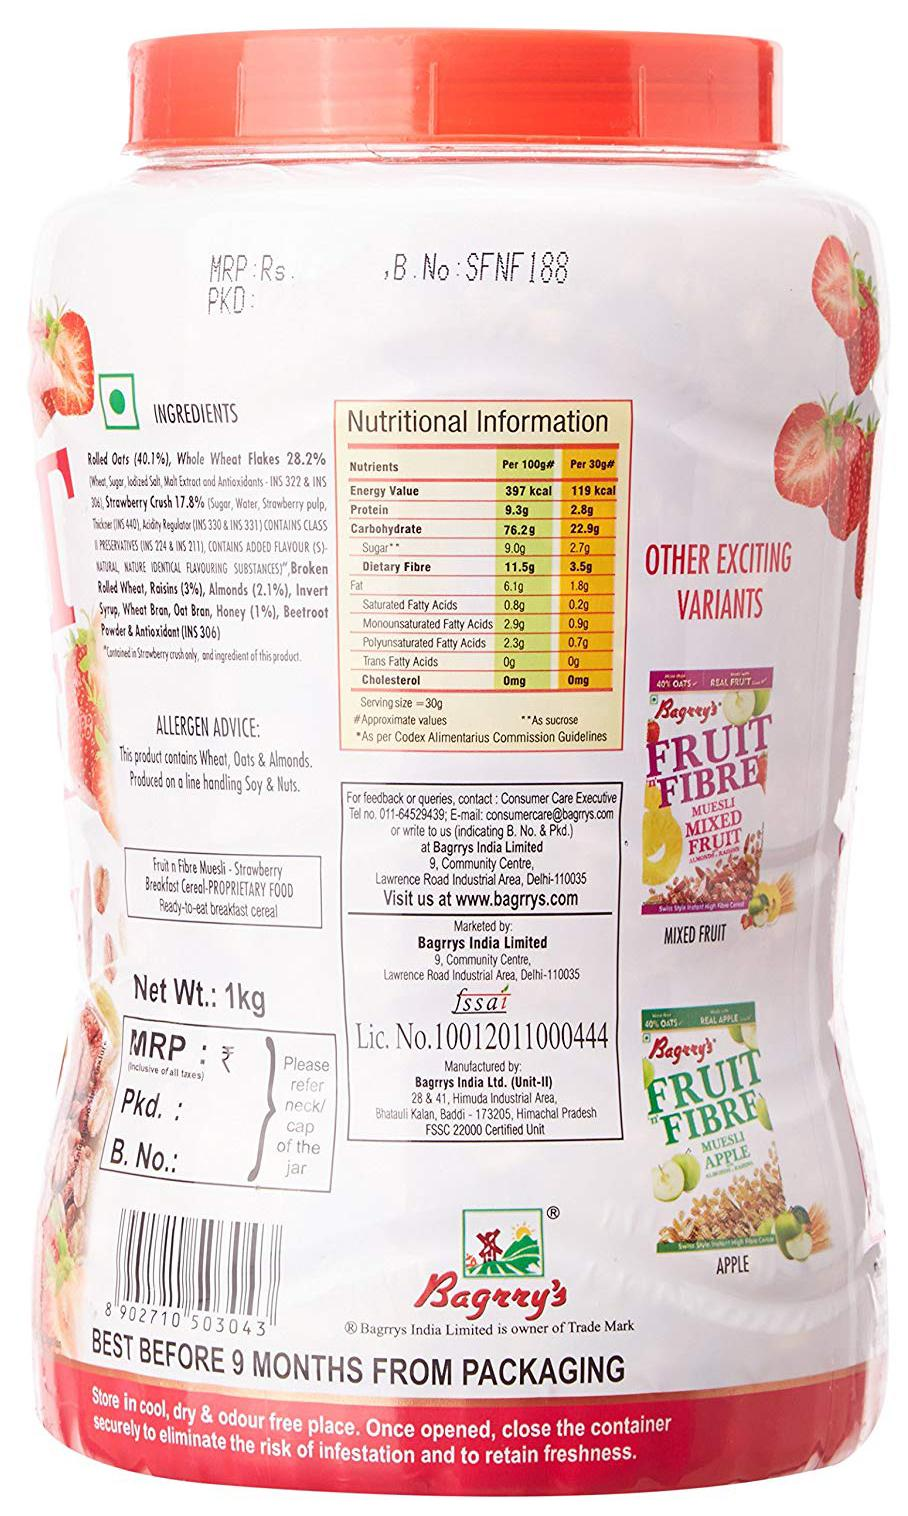fssai: (449, 984, 511, 1014)
